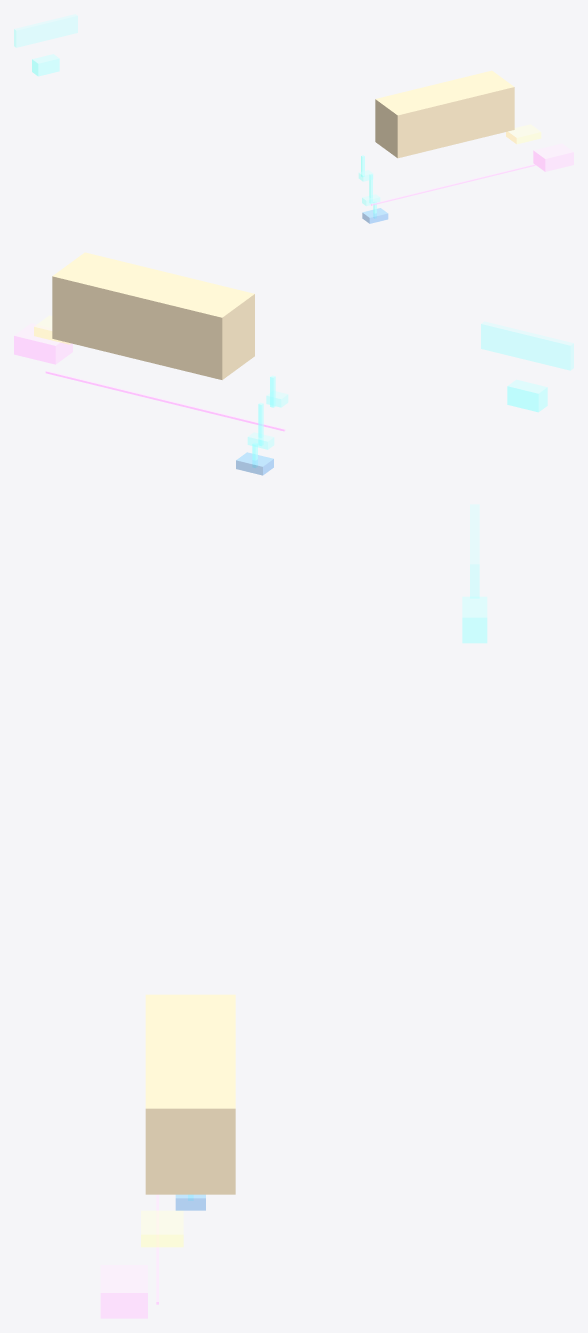
File: blender.glb
3 renders of one model, top to bottom at view 1: azimuth 30°, elevation 25°; view 2: azimuth 150°, elevation 25°; view 3: azimuth 270°, elevation 25°, orthographic. The views are drawn at different scales.
Parts seen in each view (by area): view 1: SphinxBody_Shape, KhufuBigVoid_Shape, HallOfRecords_Shape, KhufuKingsChamber_Shape, SphinxPawVoid_Shape, UndergroundLink_Shape, OsirisLevel3Water_Shape; view 2: SphinxBody_Shape, KhufuBigVoid_Shape, HallOfRecords_Shape, KhufuKingsChamber_Shape, UndergroundLink_Shape, OsirisLevel3Water_Shape, SphinxPawVoid_Shape, OsirisChamberB_Shape; view 3: SphinxBody_Shape, HallOfRecords_Shape, SphinxPawVoid_Shape, KhufuKingsChamber_Shape.
Boxes of the visible parts, x1,y1,x2,y2 form: SphinxBody_Shape: (375,70,514,158); KhufuBigVoid_Shape: (14,14,77,47); HallOfRecords_Shape: (533,143,573,171); KhufuKingsChamber_Shape: (32,54,59,76); SphinxPawVoid_Shape: (506,124,541,144); UndergroundLink_Shape: (371,164,535,205); OsirisLevel3Water_Shape: (362,208,388,223); SphinxBody_Shape: (52,252,254,379); KhufuBigVoid_Shape: (481,321,573,370); HallOfRecords_Shape: (14,323,72,364); KhufuKingsChamber_Shape: (507,379,547,412); UndergroundLink_Shape: (45,371,285,431); OsirisLevel3Water_Shape: (236,452,273,475); SphinxPawVoid_Shape: (34,315,70,344); OsirisChamberB_Shape: (247,432,274,449); SphinxBody_Shape: (145,994,235,1194); HallOfRecords_Shape: (100,1265,147,1318); SphinxPawVoid_Shape: (141,1210,183,1247); KhufuKingsChamber_Shape: (462,596,487,643).
Bounding box in the file's own units: 227 × 96.77 × 81.62.
